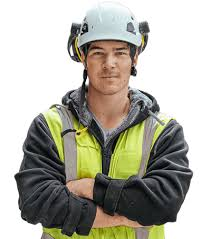hard hat: (75, 1, 145, 46)
high-vis: (41, 103, 175, 181)
